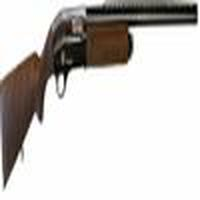gun: (1, 1, 199, 196)
